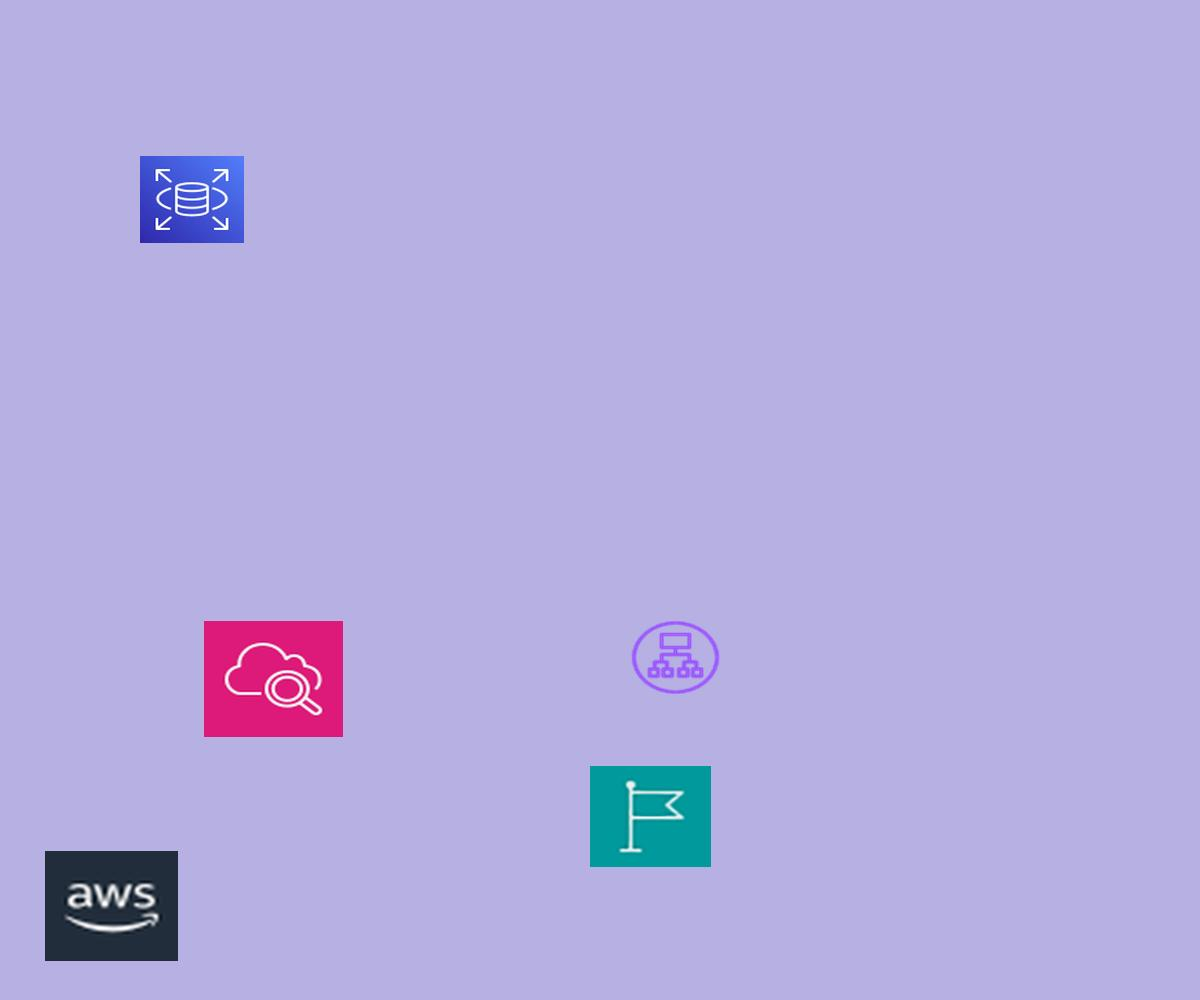AWS-Cloud-logo: (45, 851, 178, 961)
AWS-CloudWatch: (204, 621, 343, 737)
AWS-RDS: (140, 156, 244, 243)
AWS-Region: (590, 766, 711, 867)
AWS-Res_Elastic-Load-Balancing_Application-Load-Balancer: (628, 618, 723, 697)
